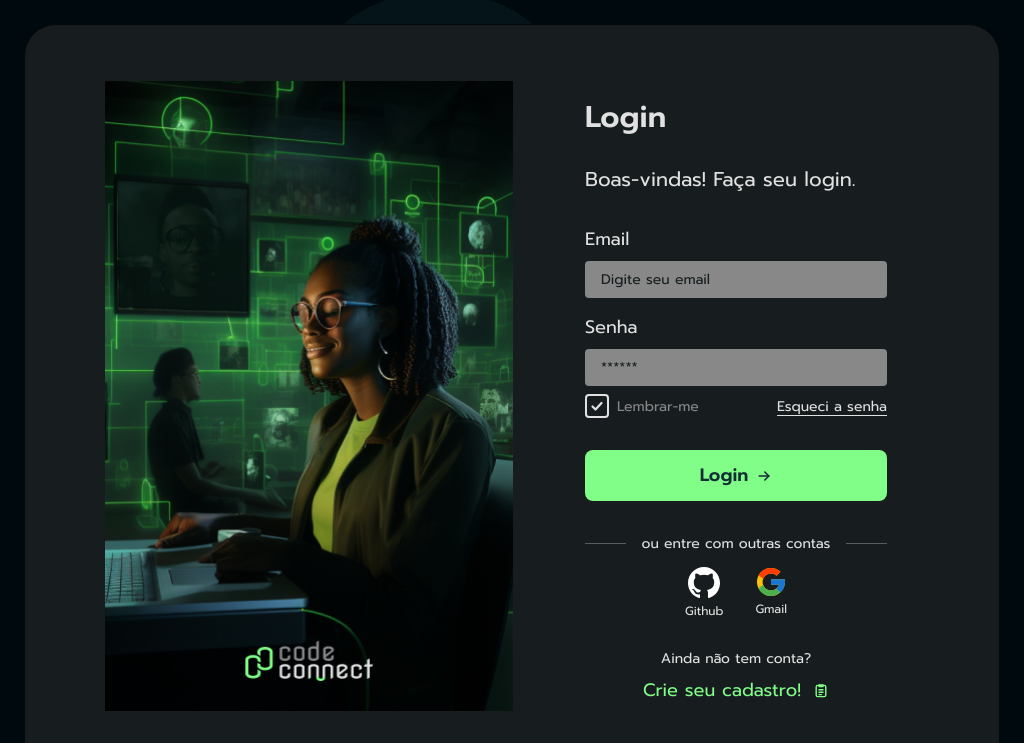
Test: LoginPage › displays API error message when login returns 401
The image size is (1024, 743).
Step 1. Type "ada@example.com" into the field labelled "Email" → (736, 280), box [585, 261, 887, 298]
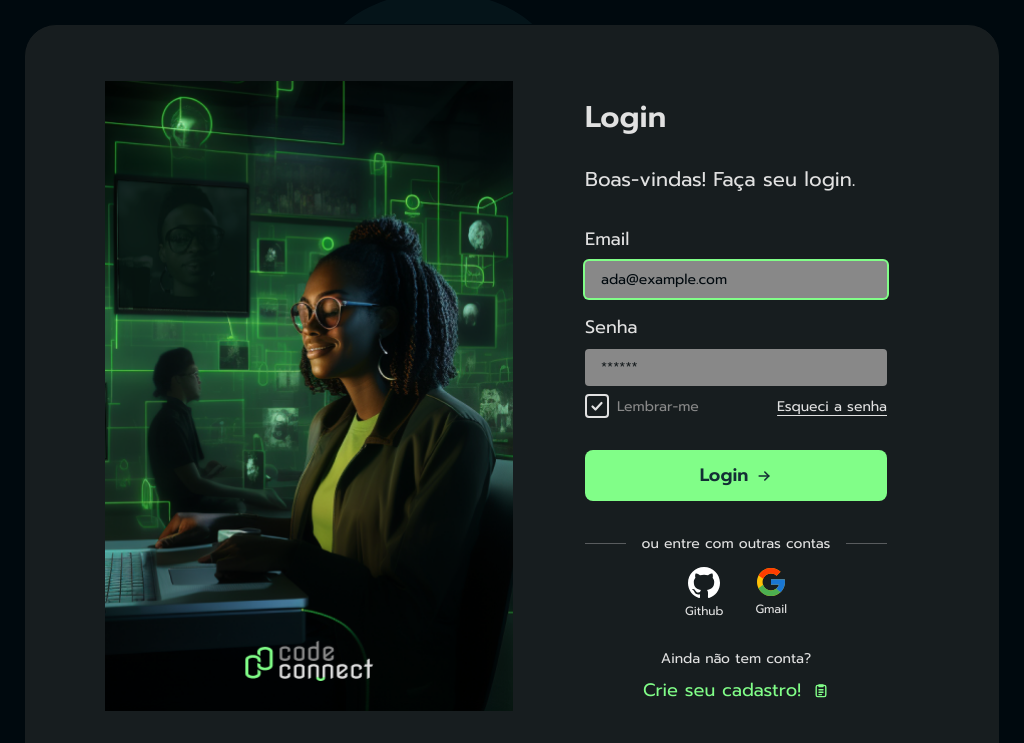
Step 2. Type "wrongpass" into the password field labelled "Senha" → (736, 368), box [585, 349, 887, 386]
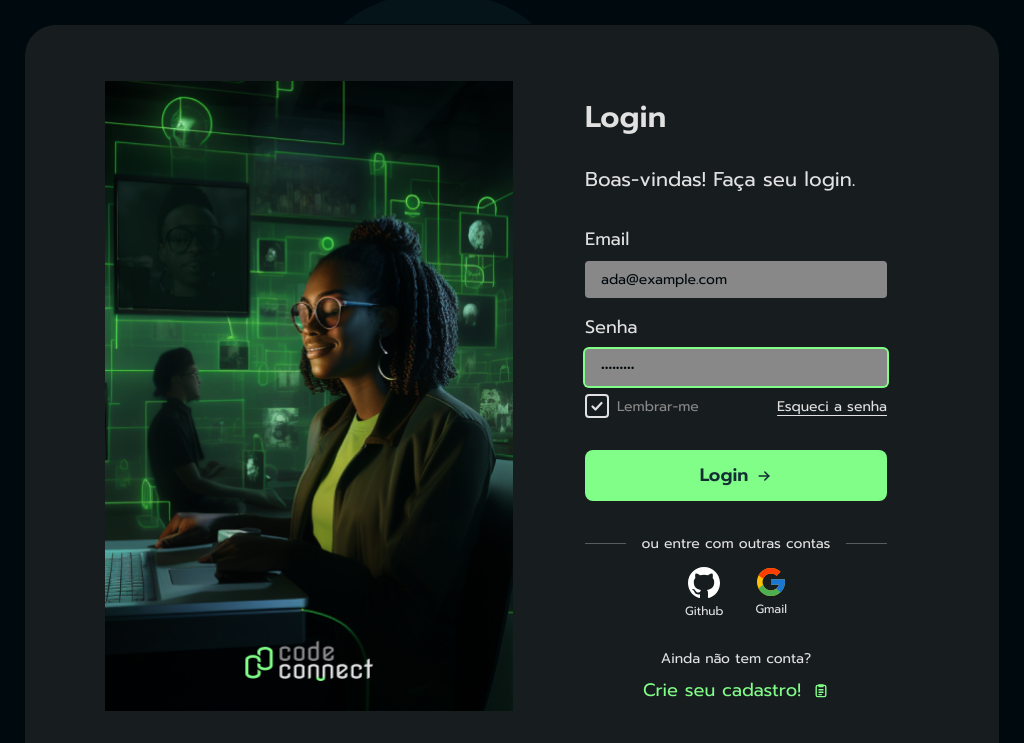
Step 3. Click the button "Login" → (736, 476), box [585, 450, 887, 501]
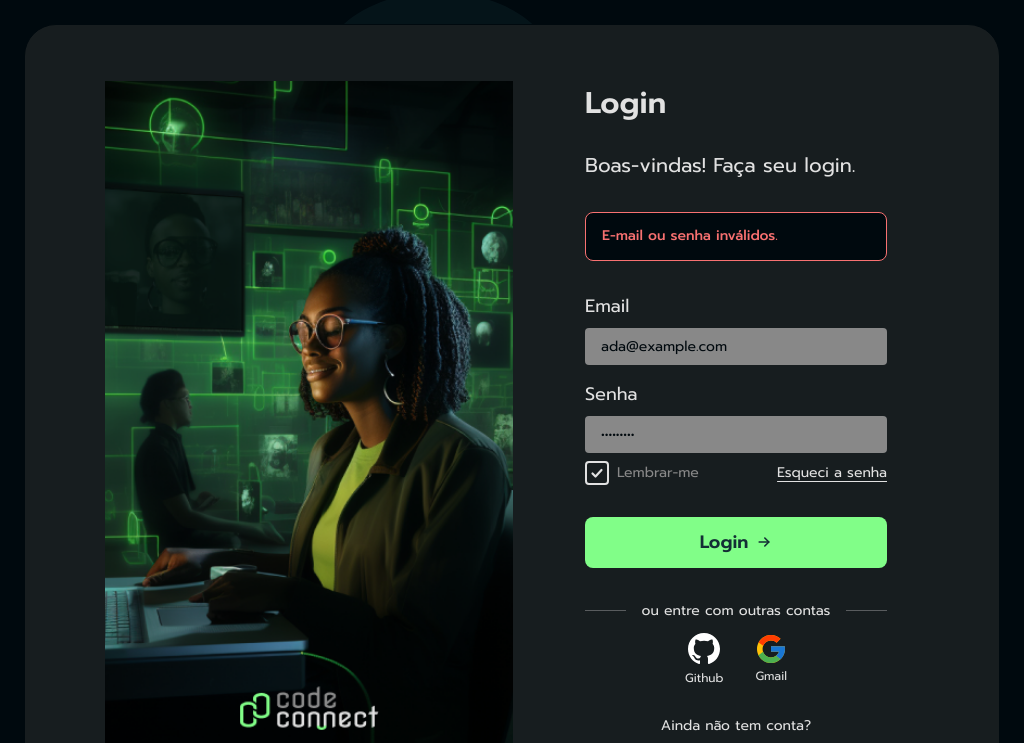
Result: the message reads "E-mail ou senha inválidos." at [602, 225, 778, 246]
